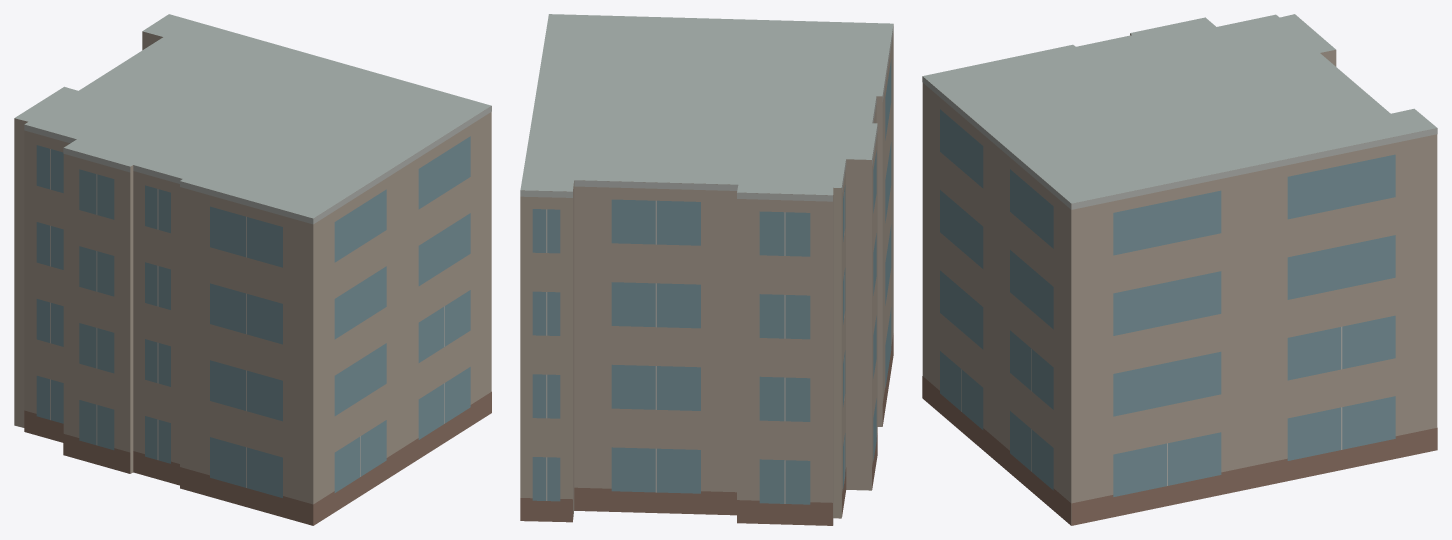
File: survey-upis-32743332.glb
The picture shows the model from 3 angles, left to right: view 1: azimuth 30°, elevation 25°; view 2: azimuth 150°, elevation 25°; view 3: azimuth 270°, elevation 25°; orthographic projection. The views are drawn at different scales.
Parts seen in each view (by area): view 1: survey-upis-32743332.tmp; view 2: survey-upis-32743332.tmp; view 3: survey-upis-32743332.tmp.
Part boxes in pixels (<box>): survey-upis-32743332.tmp: <box>14,14,491,525</box>; survey-upis-32743332.tmp: <box>520,14,893,525</box>; survey-upis-32743332.tmp: <box>922,14,1437,525</box>.
Bounding box in the file's own units: 15.98 × 12.65 × 18.33.
